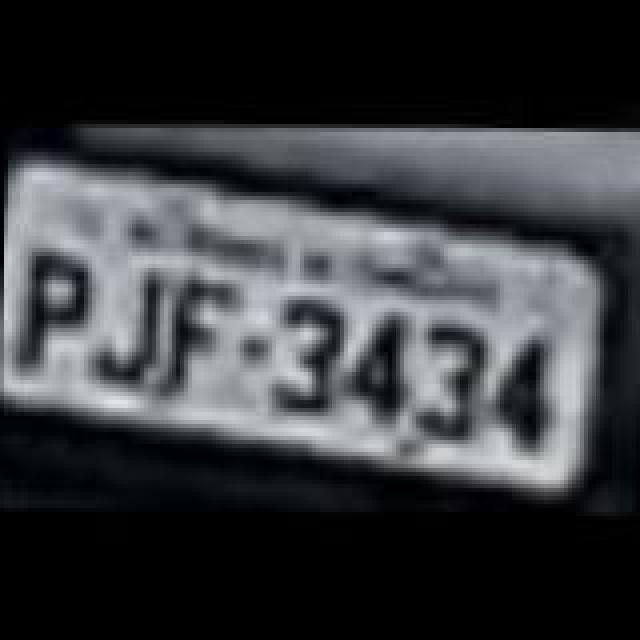3: (262, 288, 350, 420), (404, 314, 488, 442)
4: (478, 326, 558, 462), (336, 302, 412, 434)
F: (158, 270, 242, 398)
J: (84, 266, 172, 394)
P: (12, 244, 100, 376)
